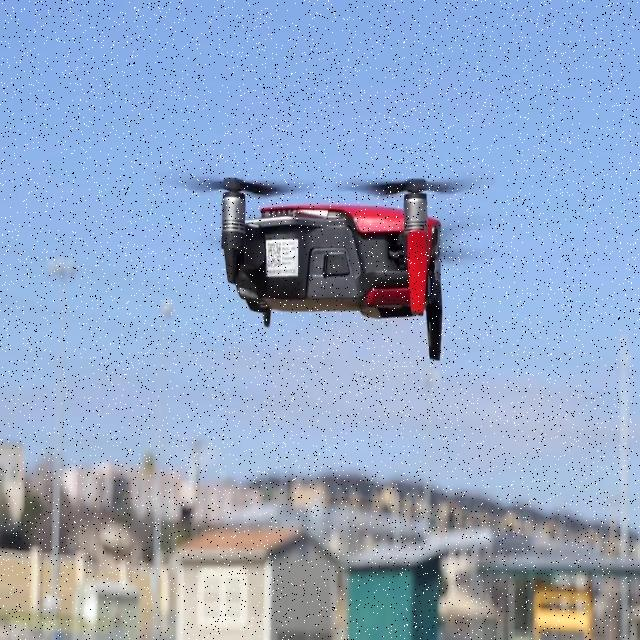UAV: (168, 178, 490, 362)
